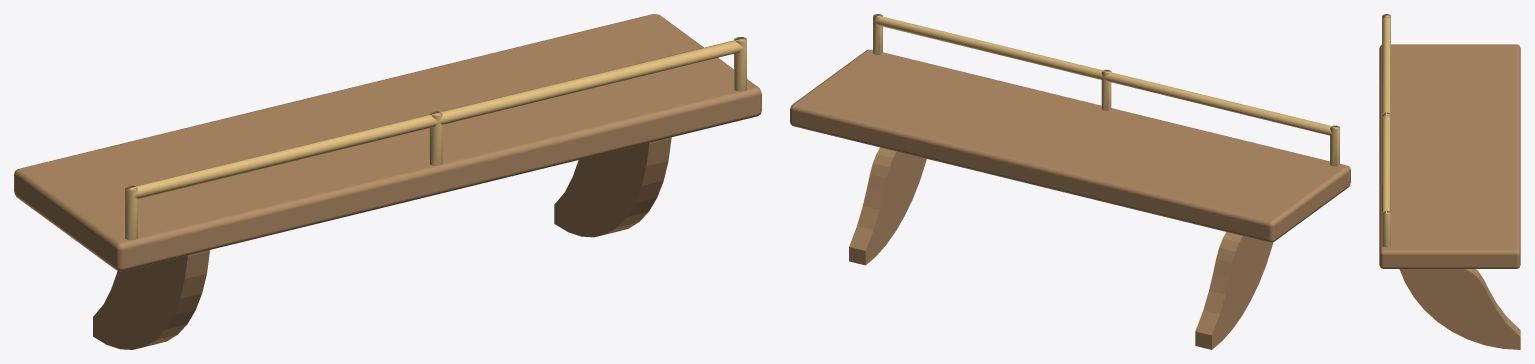
The model's file is Crescent_Wall_Shelf.fbx.
3 views of the same model, side by side, from view 1: azimuth 30°, elevation 25°; view 2: azimuth 150°, elevation 25°; view 3: azimuth 270°, elevation 25° (orthographic). The views are drawn at different scales.
Visible parts, largest first — view 1: Crescent_Wall_Shelf_Mesh; view 2: Crescent_Wall_Shelf_Mesh; view 3: Crescent_Wall_Shelf_Mesh.
Part boxes in pixels (bbox=[...]): Crescent_Wall_Shelf_Mesh: bbox=[14, 14, 761, 349]; Crescent_Wall_Shelf_Mesh: bbox=[790, 14, 1350, 349]; Crescent_Wall_Shelf_Mesh: bbox=[1379, 14, 1520, 349].
Bounding box in the file's own units: 0.7 × 0.2464 × 0.2.
